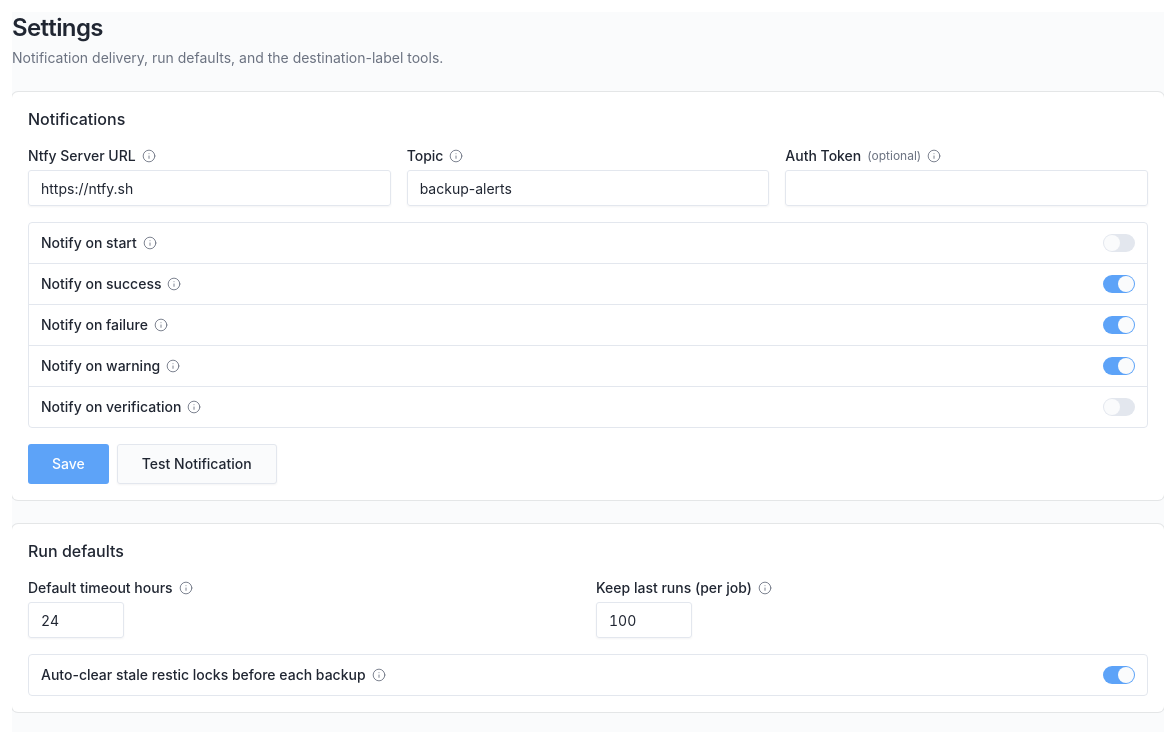
Scenario: Settings › Test Notification button › shows success message when test succeeds
The image size is (1164, 732).
Click the button "Test Notification".
click(197, 464)  # box [117,444,277,484]
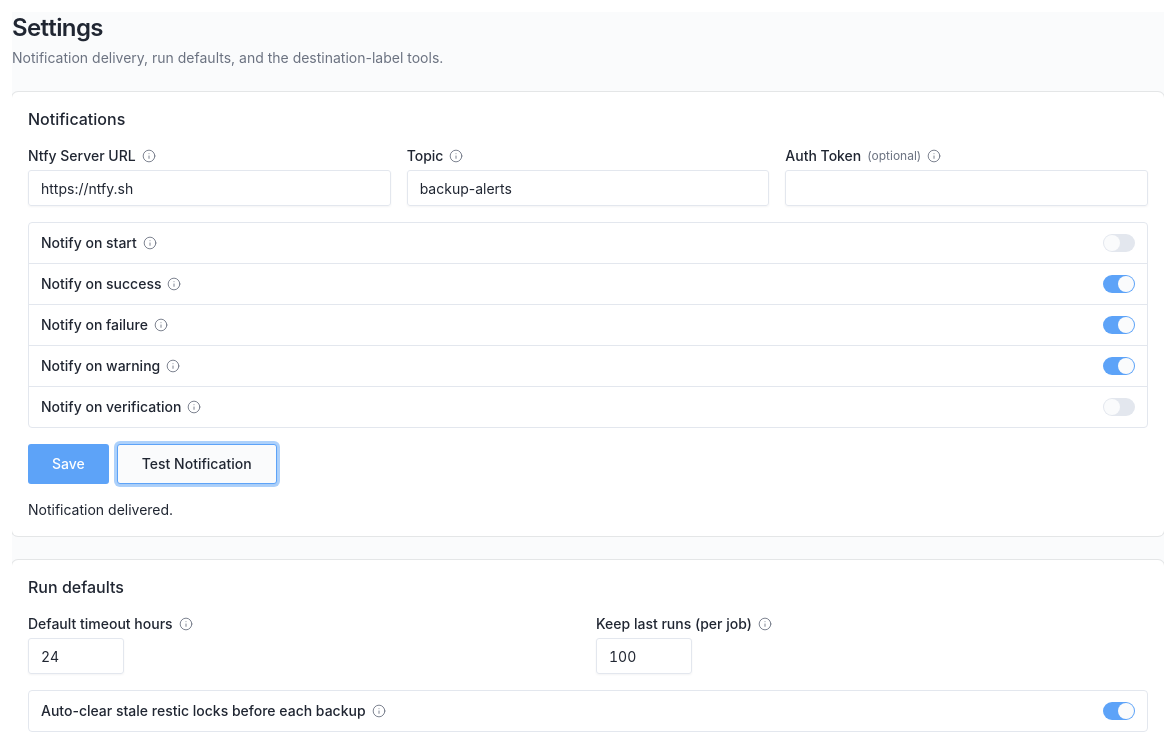
Result: the text "Notification delivered." is shown at [28,501,173,518]
